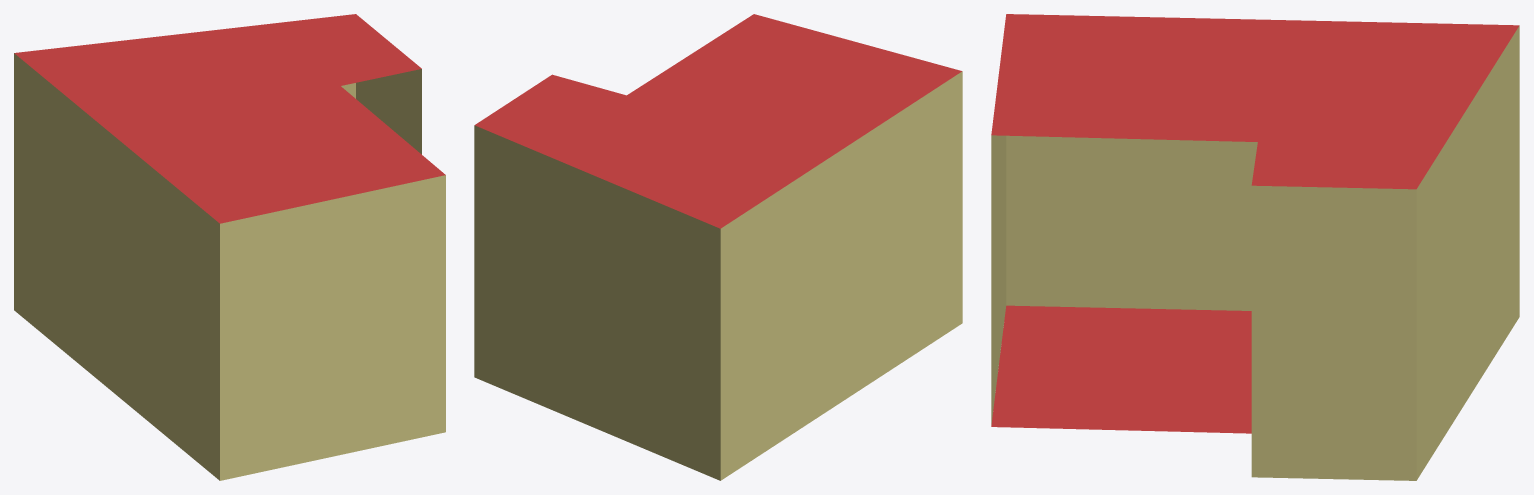
The picture shows the model from 3 angles, left to right: view 1: azimuth 30°, elevation 25°; view 2: azimuth 150°, elevation 25°; view 3: azimuth 270°, elevation 25°; orthographic projection. The views are drawn at different scales.
Visible parts, largest first — view 1: group_4, group_3; view 2: group_4, group_3; view 3: group_4, group_3, group_5.
Boxes of the visible parts, x1,y1,x2,y2 form: group_4: [14, 53, 445, 480]; group_3: [14, 14, 445, 223]; group_4: [474, 71, 962, 480]; group_3: [475, 14, 961, 228]; group_4: [991, 26, 1519, 480]; group_3: [991, 14, 1519, 189]; group_5: [991, 305, 1251, 433].
Size of the model in its own units: 8.87 by 11.3 by 6.88.
